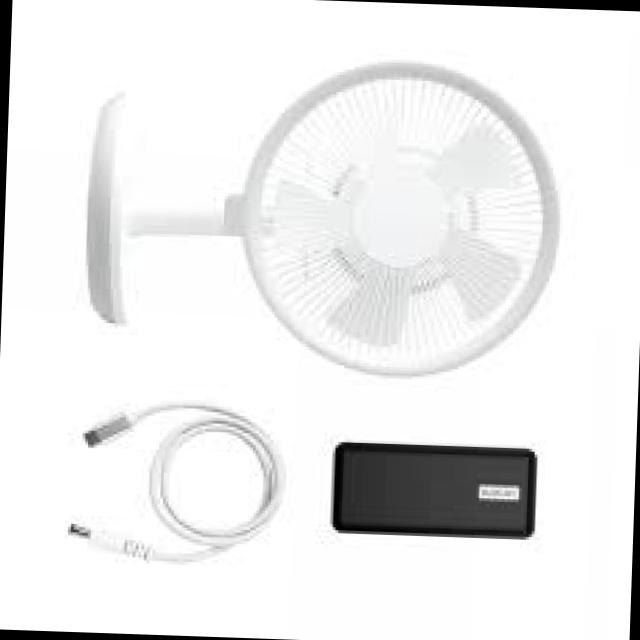portable-charger: (326, 436, 541, 544)
